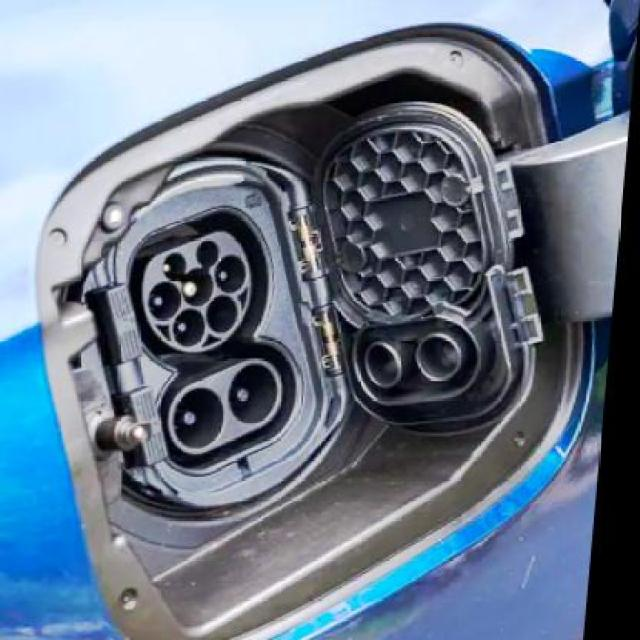CCS2: (97, 193, 318, 505)
